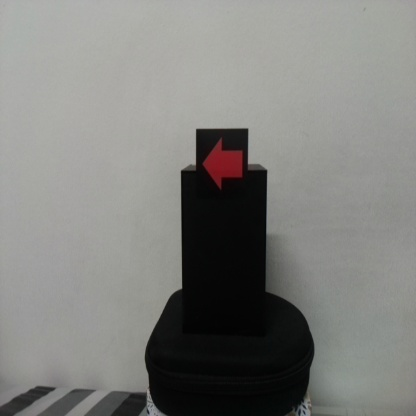id_4: (197, 129, 249, 198)
